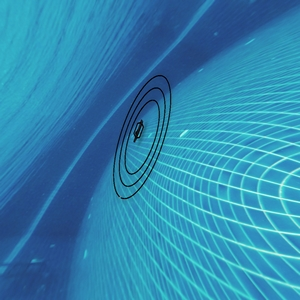circle: (100, 72, 183, 222)
submarine: (134, 122, 143, 136), (135, 124, 142, 133)
